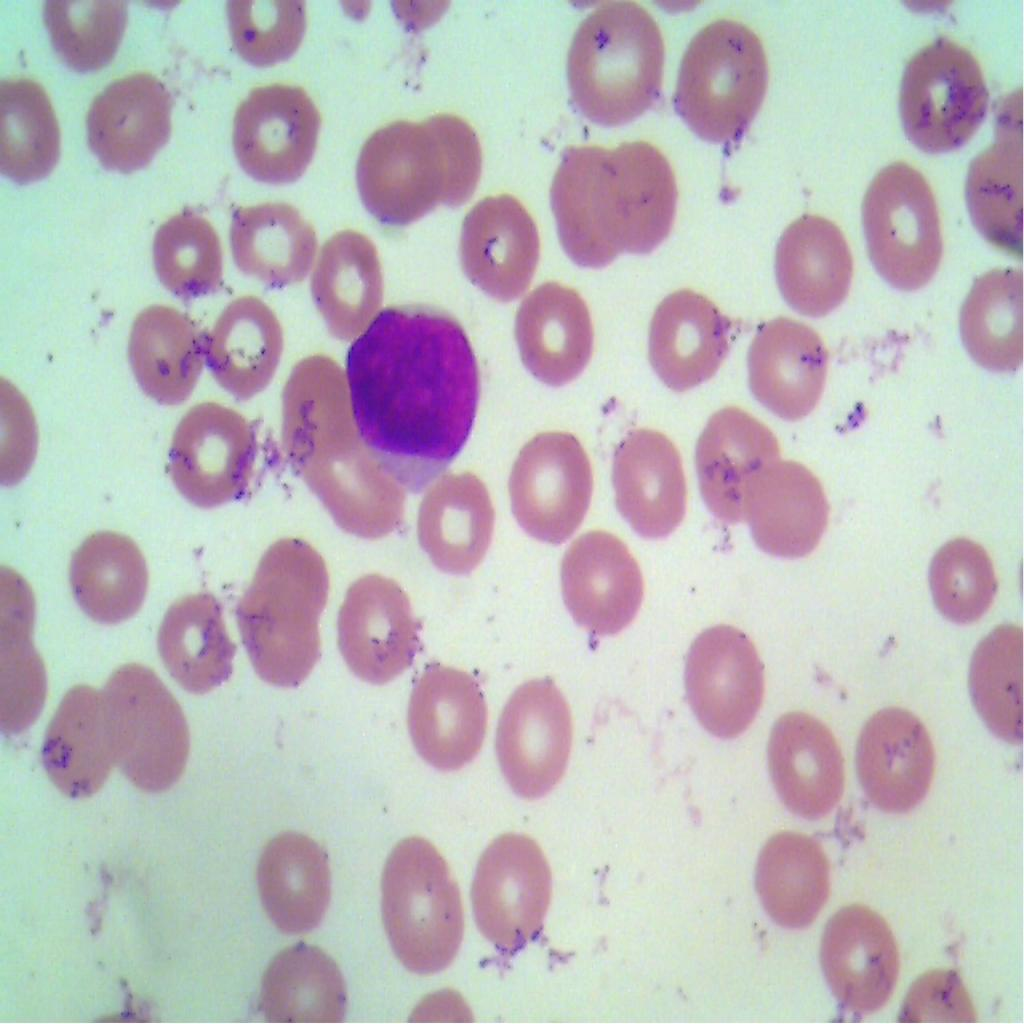Eritrosit: (556, 0, 671, 134), (379, 834, 468, 984), (856, 152, 948, 292), (155, 398, 262, 518), (675, 17, 773, 147), (679, 608, 769, 749), (890, 37, 990, 158), (81, 67, 178, 191), (104, 657, 193, 792), (814, 892, 904, 1014), (744, 824, 842, 936), (506, 426, 598, 545), (848, 698, 939, 818), (494, 671, 578, 799), (693, 402, 781, 524), (766, 212, 866, 319), (226, 78, 326, 184), (412, 462, 498, 585), (556, 530, 650, 642), (606, 422, 688, 550), (402, 660, 490, 779), (471, 828, 554, 954), (333, 564, 418, 685), (644, 282, 730, 401), (149, 578, 238, 692), (38, 675, 123, 792), (766, 708, 853, 822), (451, 194, 544, 299), (513, 278, 593, 399), (748, 458, 835, 568), (66, 525, 158, 628), (310, 447, 406, 545), (238, 578, 320, 691), (746, 314, 833, 420), (256, 824, 336, 938), (129, 296, 209, 408), (919, 528, 1008, 627), (950, 260, 1024, 378), (356, 115, 438, 221), (226, 194, 316, 290), (312, 227, 382, 348), (146, 201, 226, 304), (206, 294, 286, 397), (280, 352, 354, 462), (409, 109, 484, 214), (254, 941, 348, 1023), (0, 78, 66, 191), (254, 534, 326, 628)
Limfoblast: (346, 308, 484, 470)
